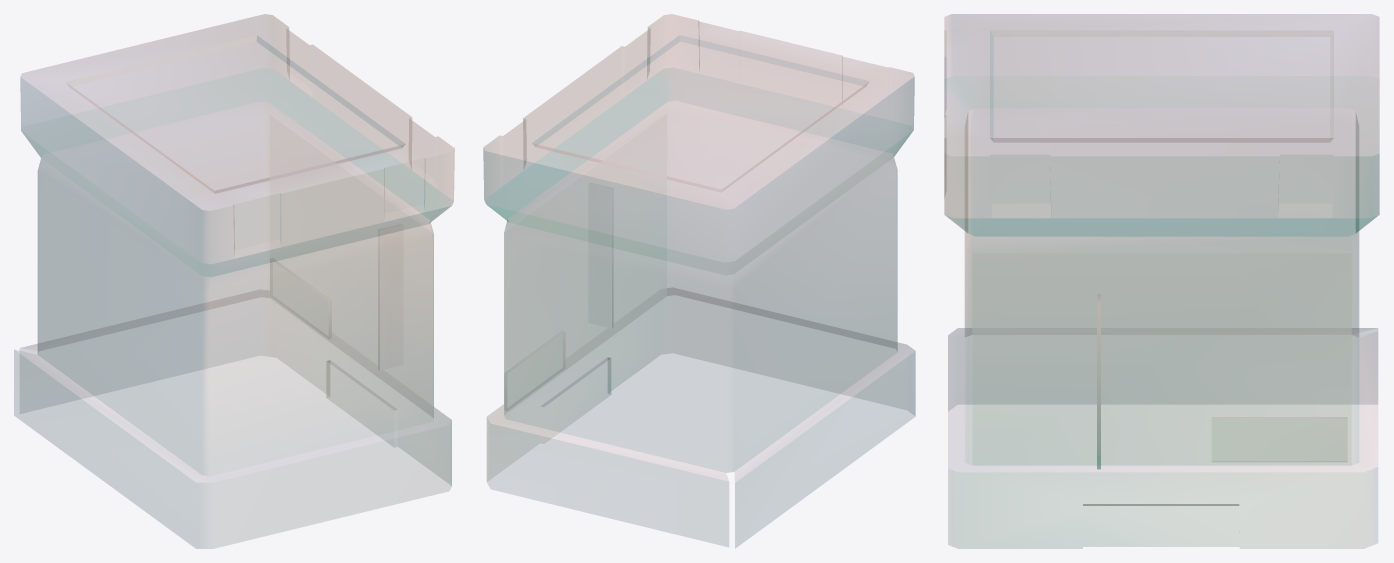
The model's file is CEN_32AF.preview.glb.
3 views of the same model, side by side, from view 1: azimuth 30°, elevation 25°; view 2: azimuth 150°, elevation 25°; view 3: azimuth 270°, elevation 25° (orthographic). The views are drawn at different scales.
Visible parts, largest first — view 1: obj_1d00, obj_2150, obj_2420, obj_1ea0; view 2: obj_1d00, obj_2150, obj_2420, obj_1ea0; view 3: obj_1d00, obj_2150, obj_2420, obj_2880, obj_1ea0, obj_2b50.
Part boxes in pixels (x1,y1,x2,y2): obj_1d00: (14, 14, 454, 548); obj_2150: (37, 114, 433, 475); obj_2420: (73, 42, 397, 190); obj_1ea0: (327, 362, 393, 446); obj_1d00: (483, 14, 915, 548); obj_2150: (504, 113, 897, 472); obj_2420: (540, 42, 862, 189); obj_1ea0: (544, 359, 610, 443); obj_1d00: (944, 14, 1379, 548); obj_2150: (964, 123, 1359, 465); obj_2420: (994, 37, 1329, 137); obj_2880: (1097, 294, 1347, 469); obj_1ea0: (1083, 506, 1239, 546); obj_2b50: (1212, 419, 1346, 461).
Size of the model in its own units: 58.24 by 70.73 by 71.03.
